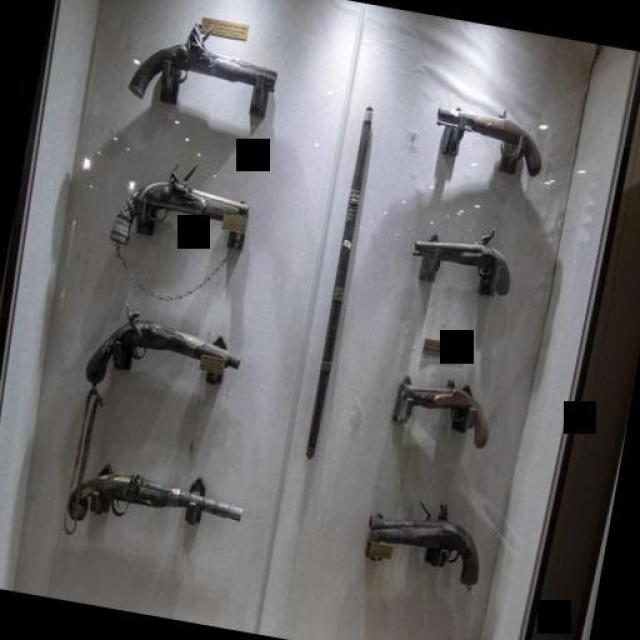gun: (56, 449, 250, 565), (75, 292, 250, 418), (120, 2, 288, 128), (102, 160, 258, 272), (355, 484, 491, 596), (404, 215, 521, 304), (382, 366, 497, 456), (426, 98, 550, 176)
